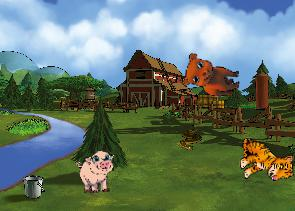bear: (181, 52, 242, 97)
pig: (76, 150, 117, 195)
tiger: (237, 135, 294, 183)
